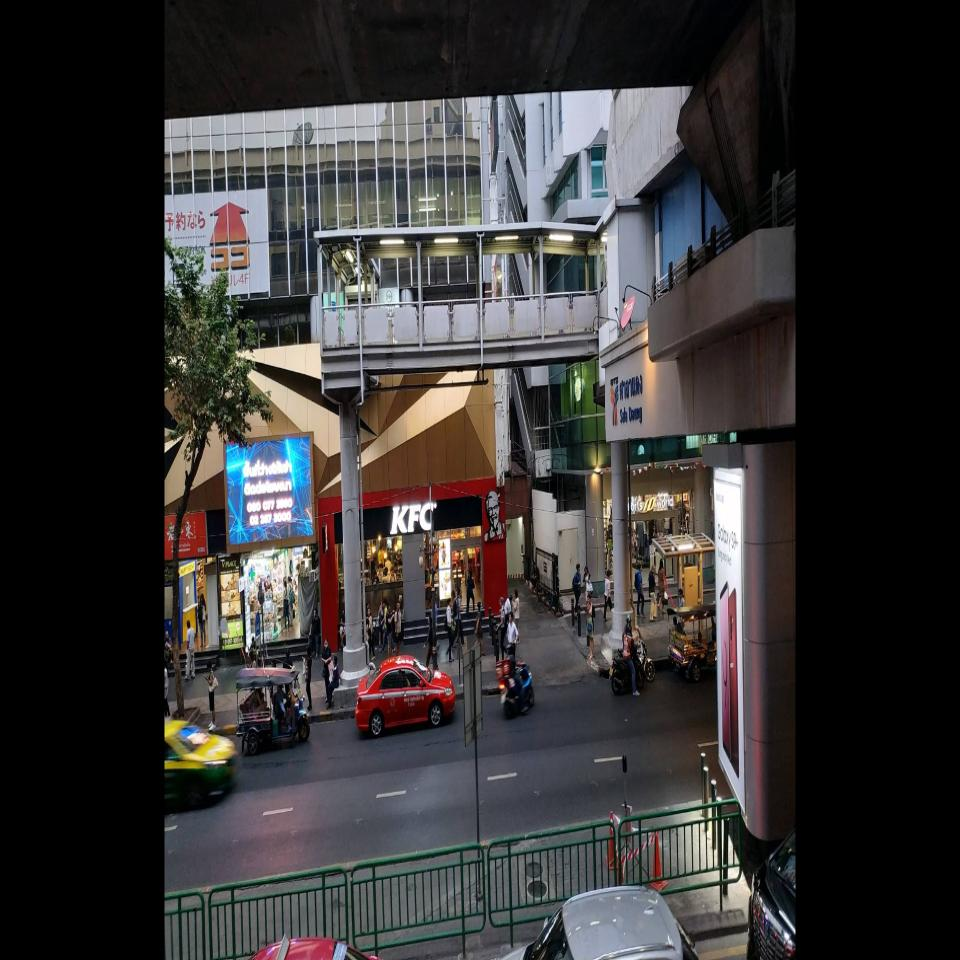Sala Daeng: (610, 374, 644, 426), (619, 374, 643, 426)
